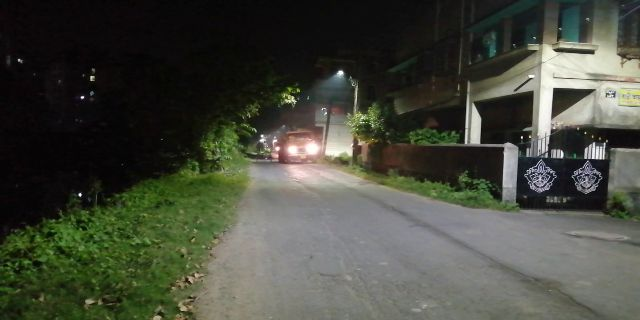Truck: (282, 129, 320, 166)
